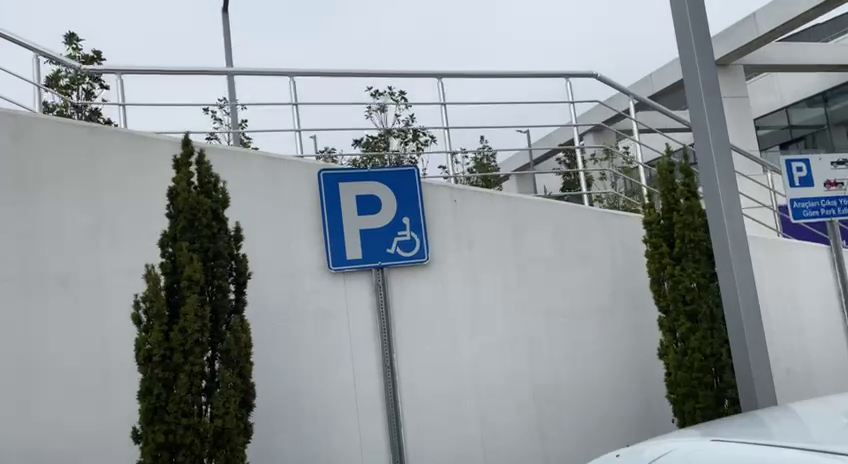parking: (314, 163, 433, 272), (784, 157, 815, 188)
